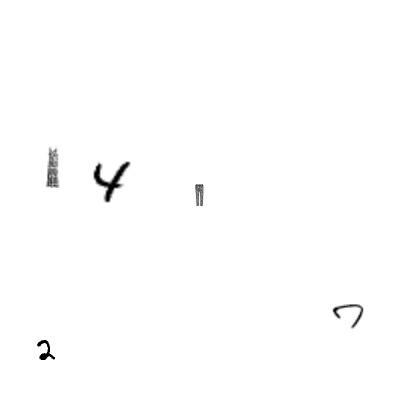2: (31, 337, 59, 365)
4: (82, 152, 138, 208)
7: (327, 291, 369, 333)
Dress: (31, 146, 73, 188)
Trouser: (188, 184, 210, 206)
